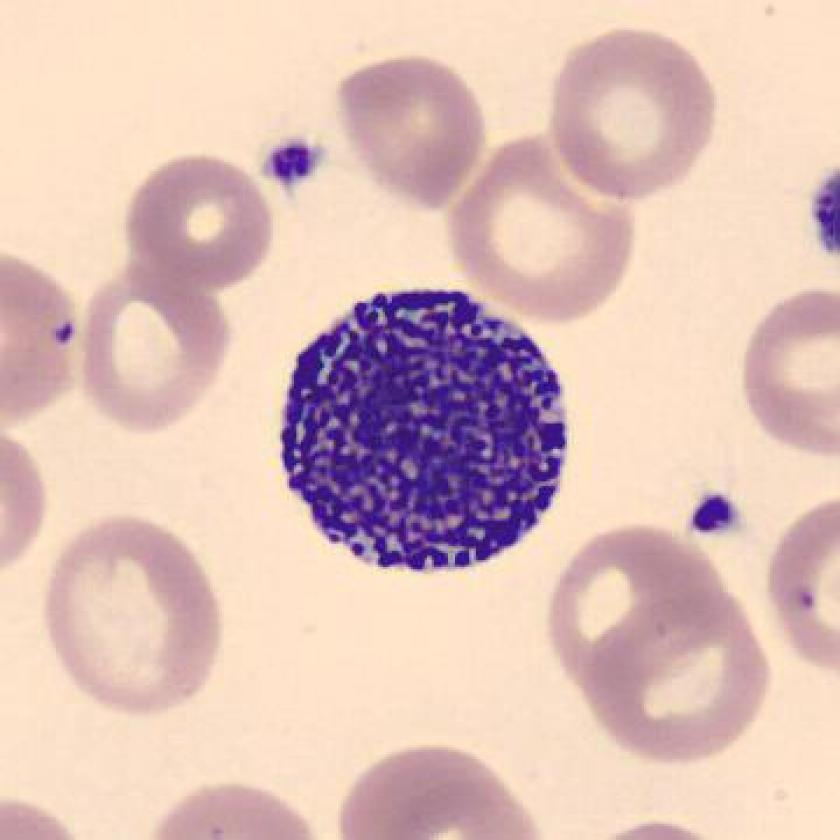basophil: (274, 272, 580, 584)
